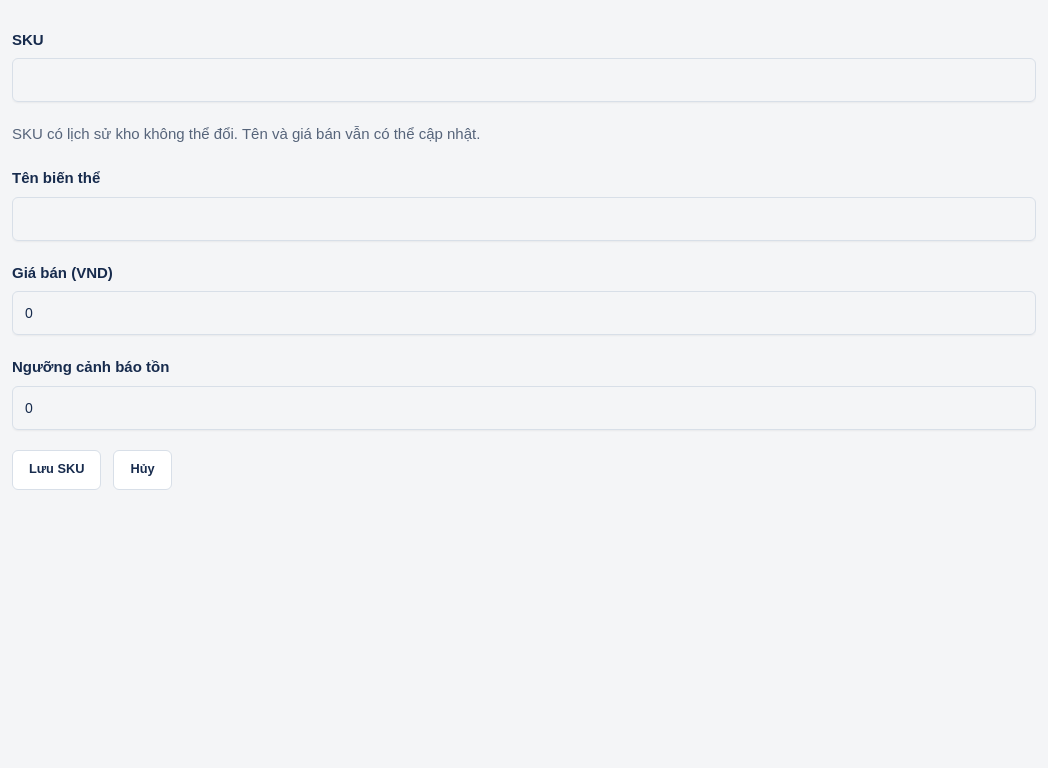
Scenario: sends exact price and quantity strings and displays duplicate SKU errors without clearing the form
Type " ab-01 " into the field labelled "SKU" at (524, 80), box [12,58,1036,102]
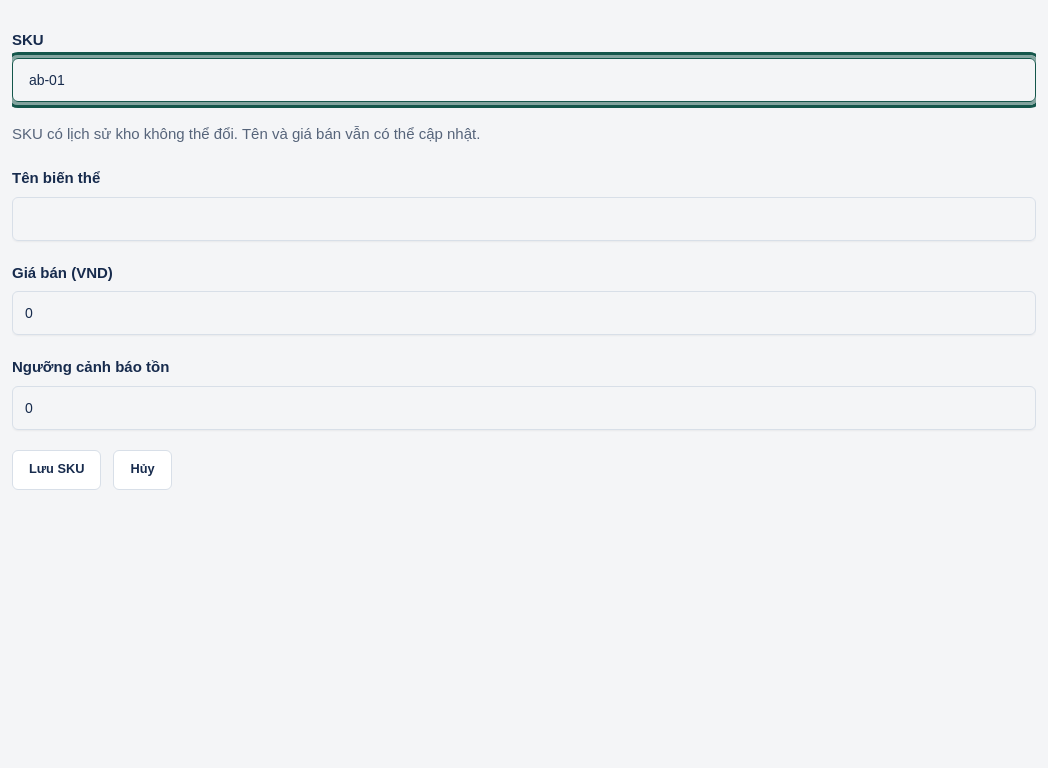
Type "Size L" into the field labelled "Tên biến thể" at (524, 219), box [12,197,1036,241]
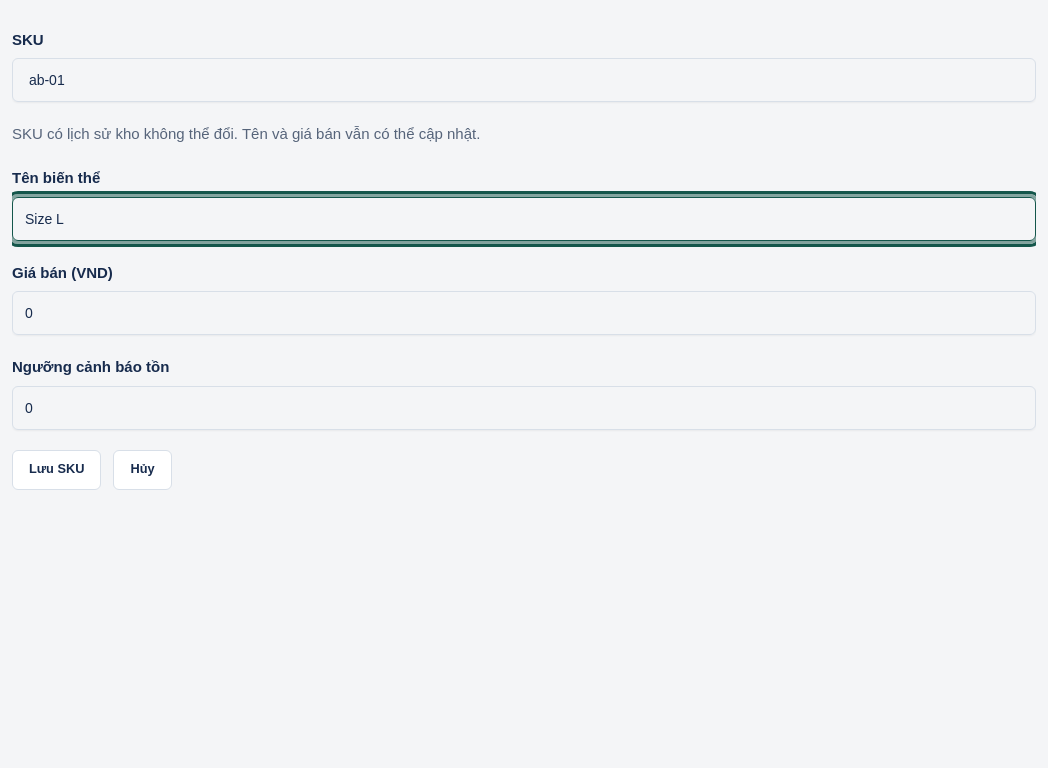
Replace the text in the field labelled "Giá bán (VND)" with "9007199254740993" at (524, 313), box [12,291,1036,335]
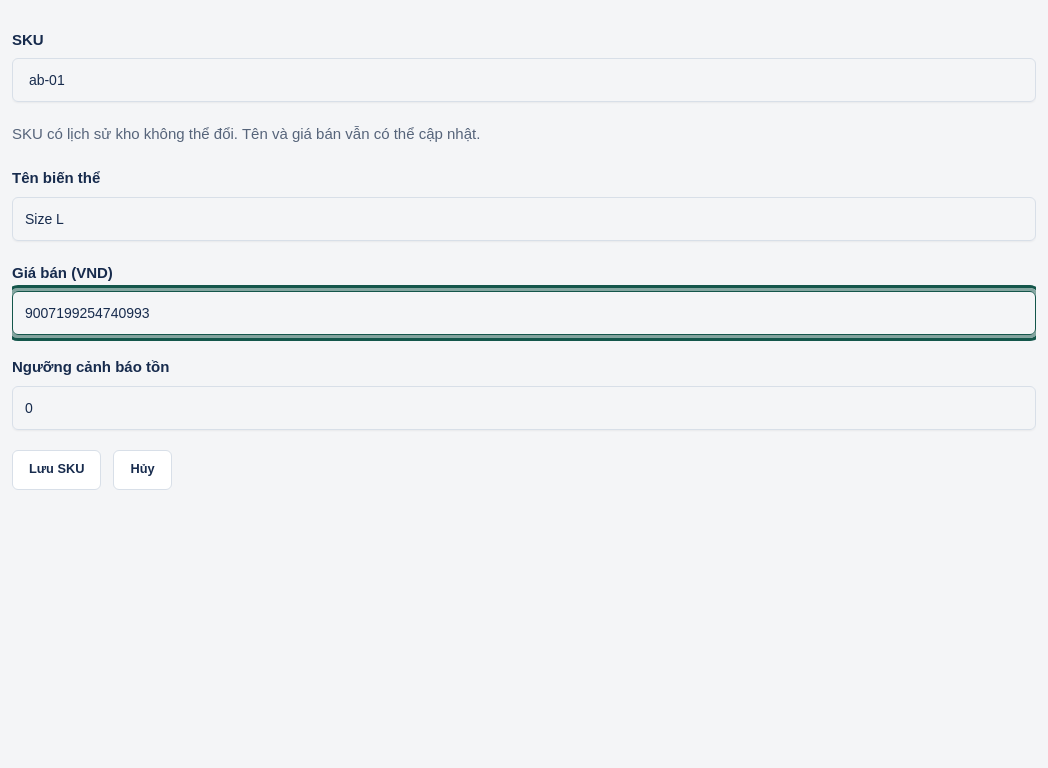
Replace the text in the field labelled "Ngưỡng cảnh báo tồn" with "0.125" at (524, 408), box [12,386,1036,430]
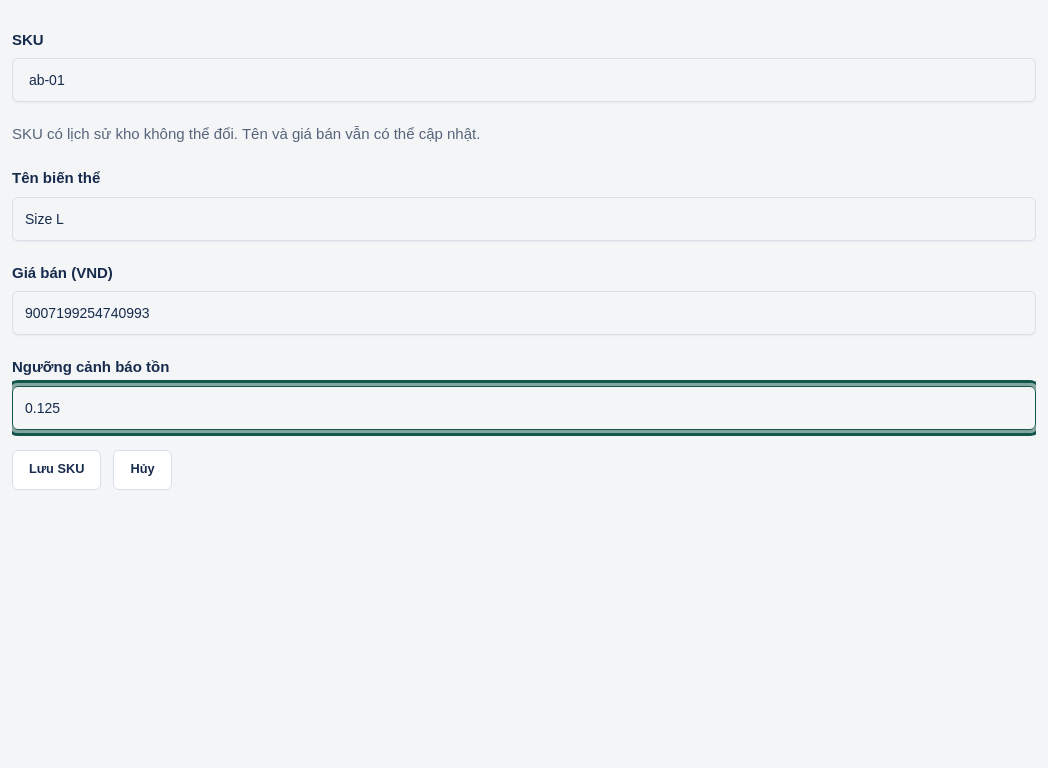
Click the button "Lưu SKU" at (57, 470), box [12,450,102,490]
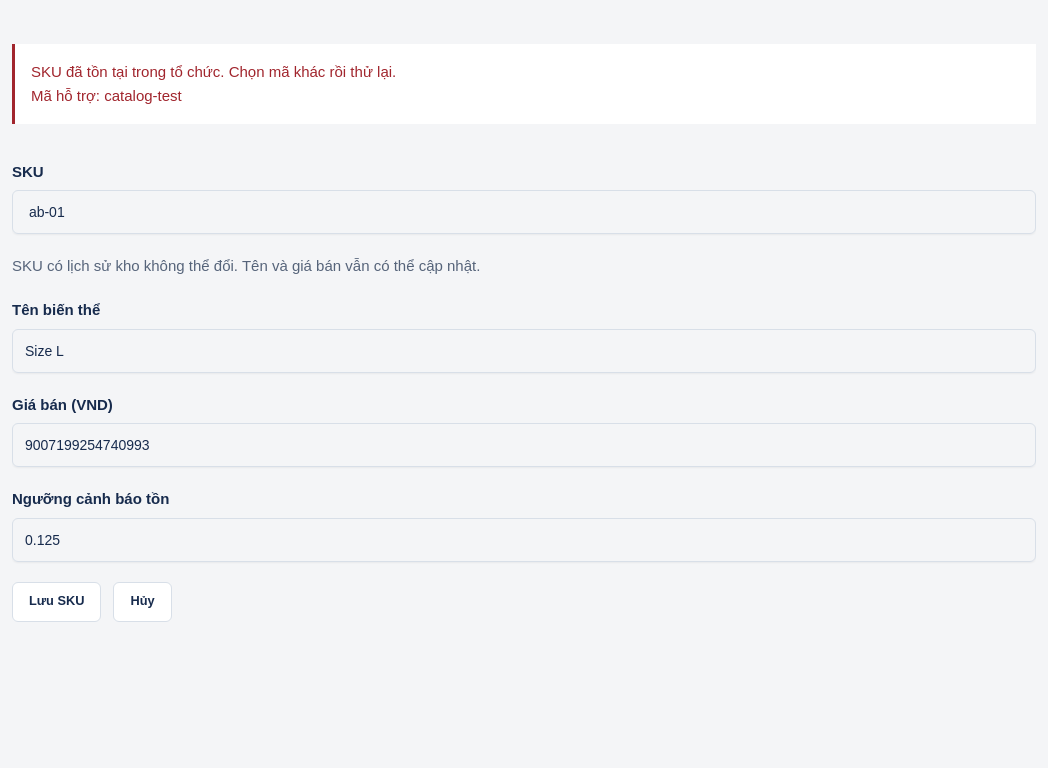
Result: the message shows "SKU đã tồn tại" at [31,63,396,80]
